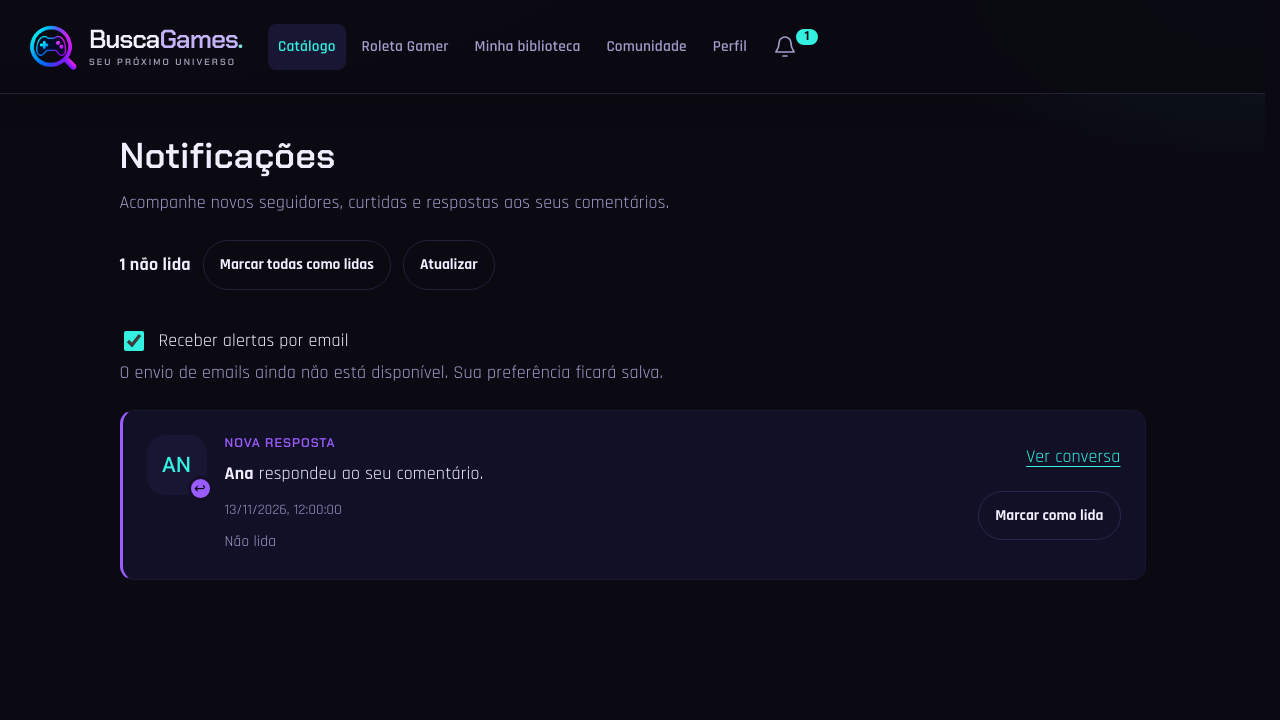
it: preserva não lidas em falha de escrita e permite tentar novamente
The image size is (1280, 720).
Later steps or results of the test are not shown.
Click the button "Marcar como lida" at [1049, 516], box left=978, top=491, right=1121, bottom=540
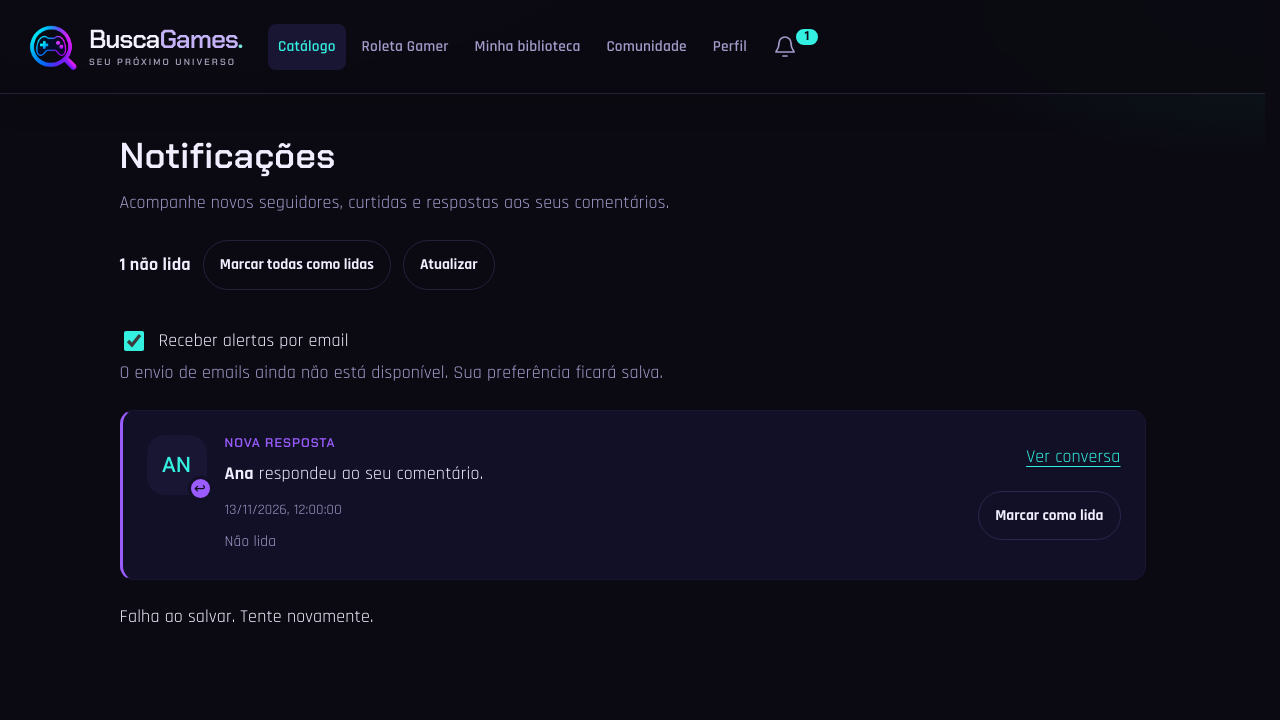
Check: the text "Não lida" is shown, box left=224, top=532, right=276, bottom=551
Check: the message shows "Falha ao salvar", box left=120, top=605, right=374, bottom=628
